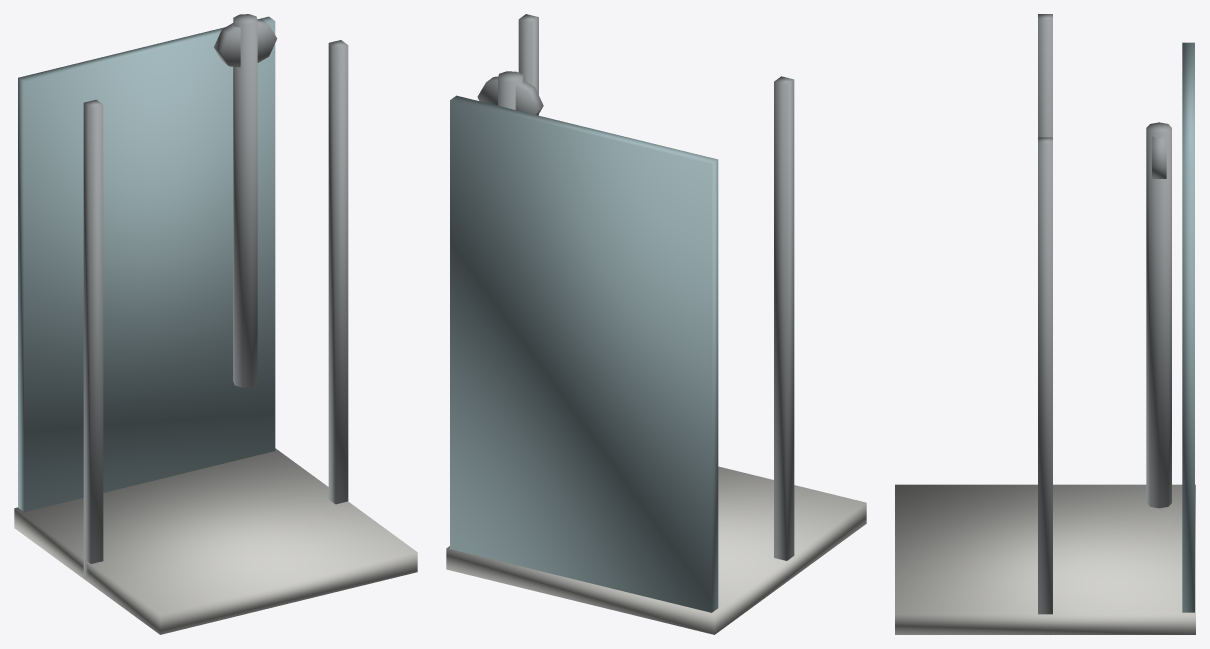
File: shower_stall__squat.glb
3 renders of one model, left to right at view 1: azimuth 30°, elevation 25°; view 2: azimuth 150°, elevation 25°; view 3: azimuth 270°, elevation 25°, orthographic. The views are drawn at different scales.
Visible parts, largest first — view 1: world; view 2: world; view 3: world.
Part boxes in pixels (<box>): world: <box>14,14,417,634</box>; world: <box>446,14,866,634</box>; world: <box>895,14,1195,634</box>.
Bounding box in the file's own units: 0.902 × 1.6 × 0.8856.
